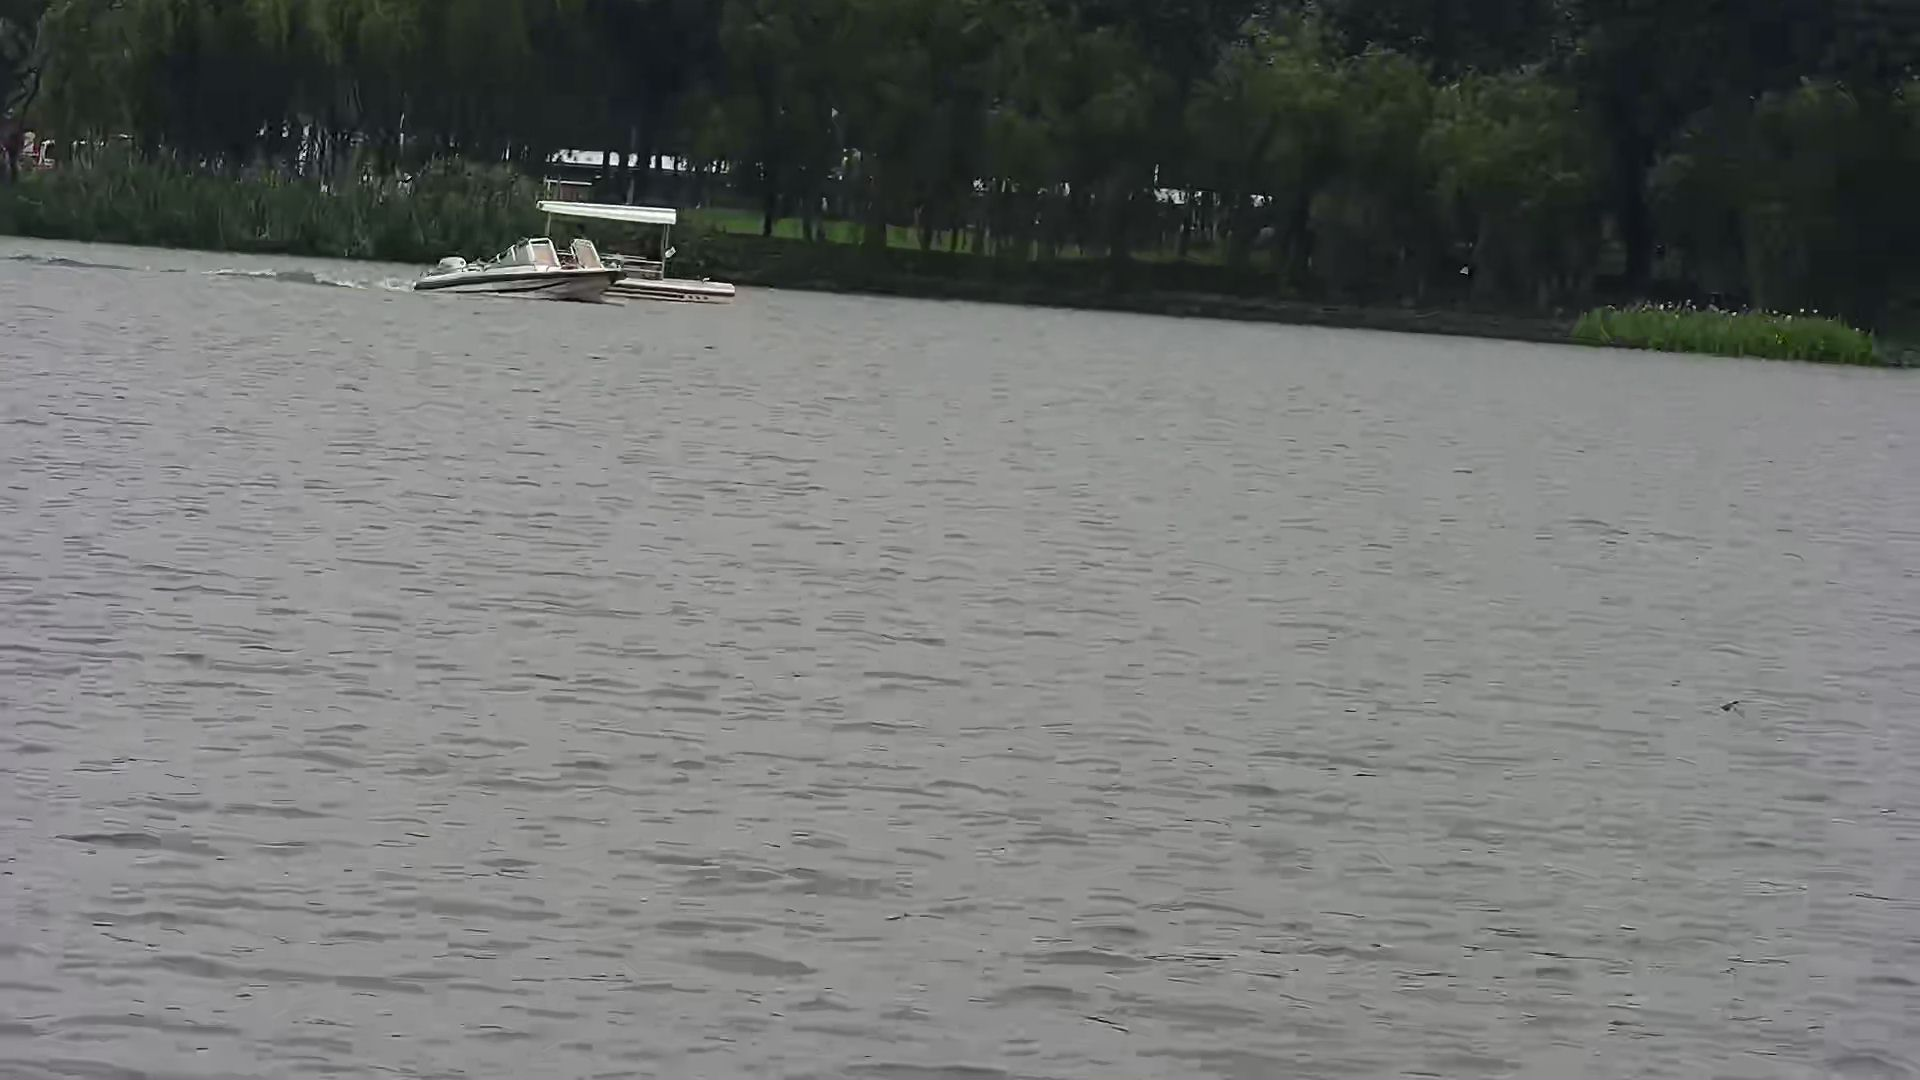boat: (404, 202, 735, 298)
